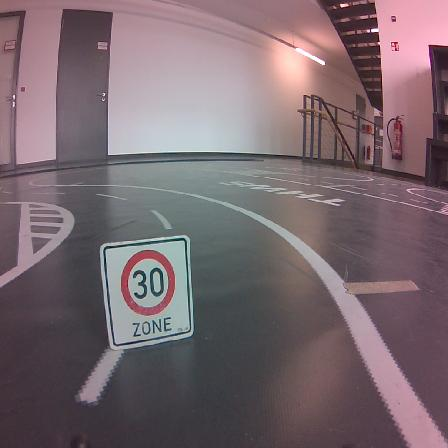30_ZONE_BEGIN: (100, 234, 193, 350)
